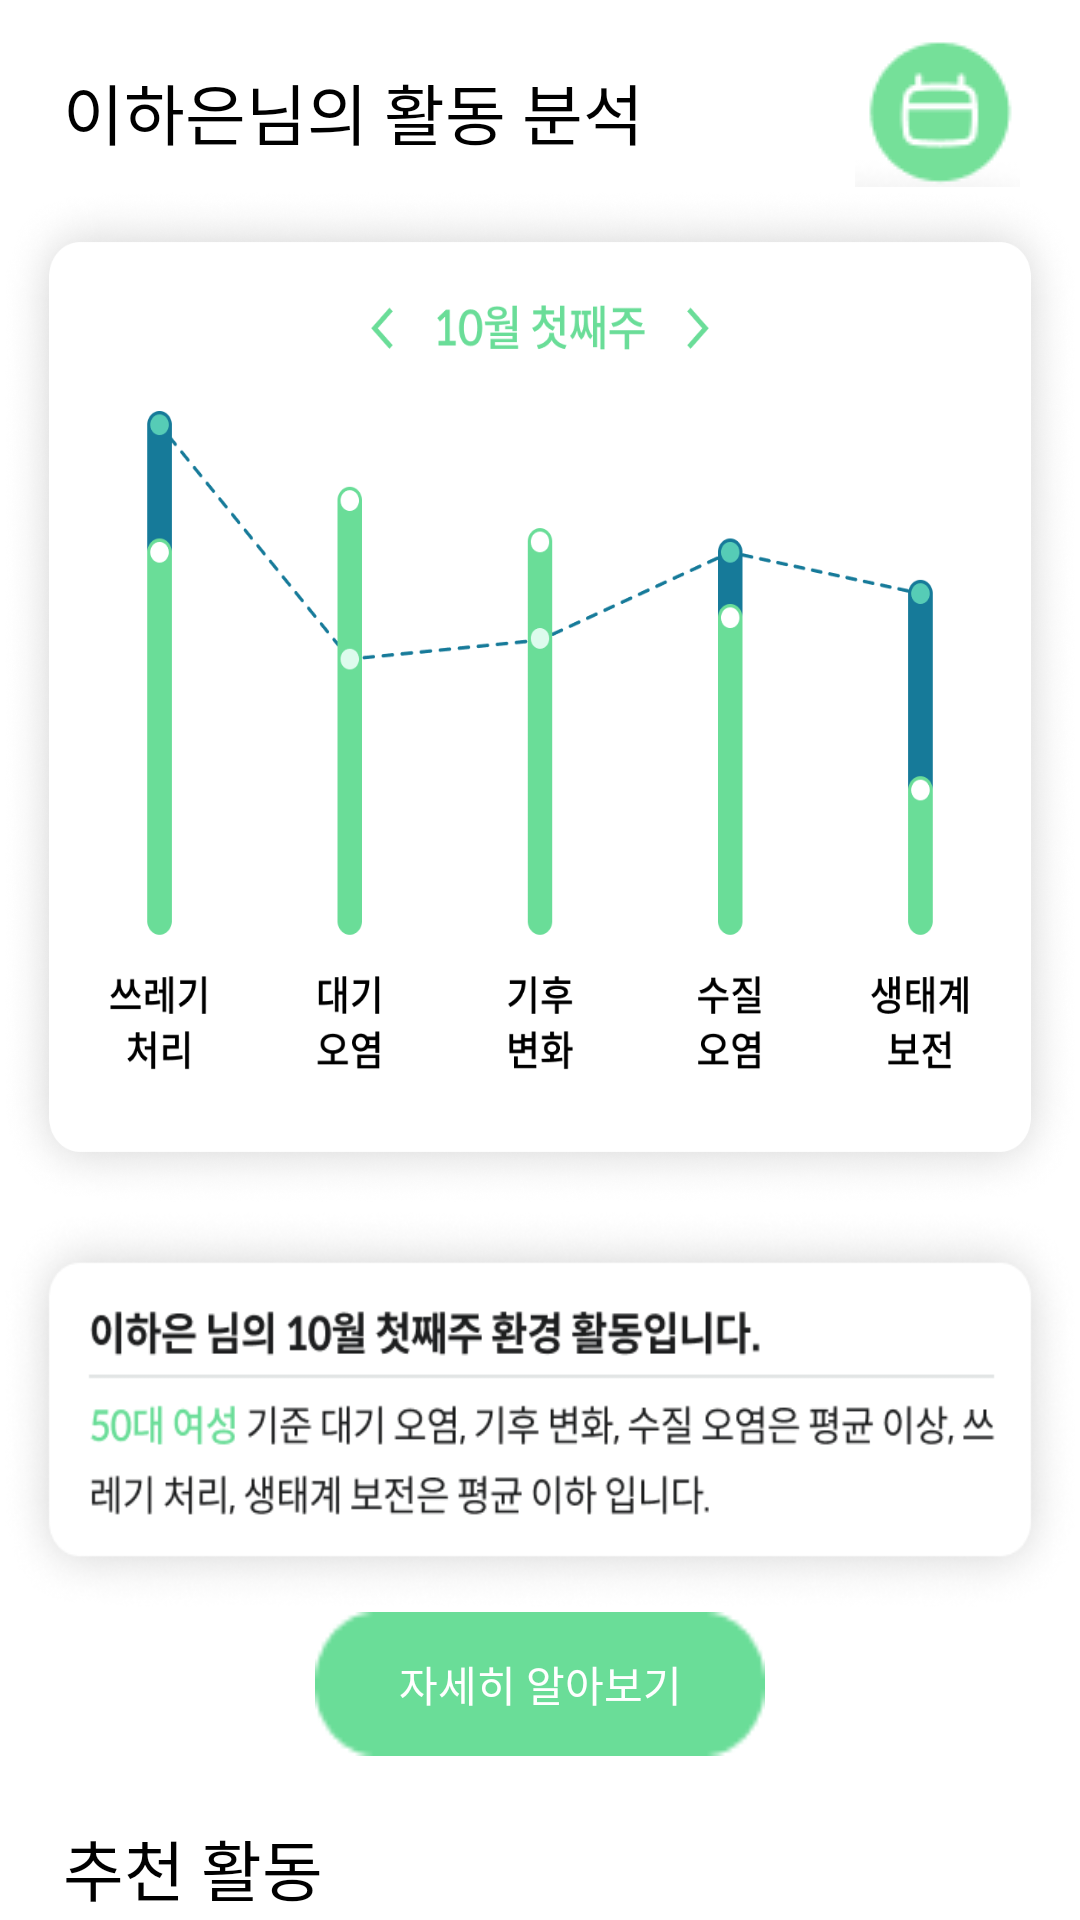

Icon click points for this 1080px×1920px phone screenshot, format point (x, y):
calendar: point (940, 112)
